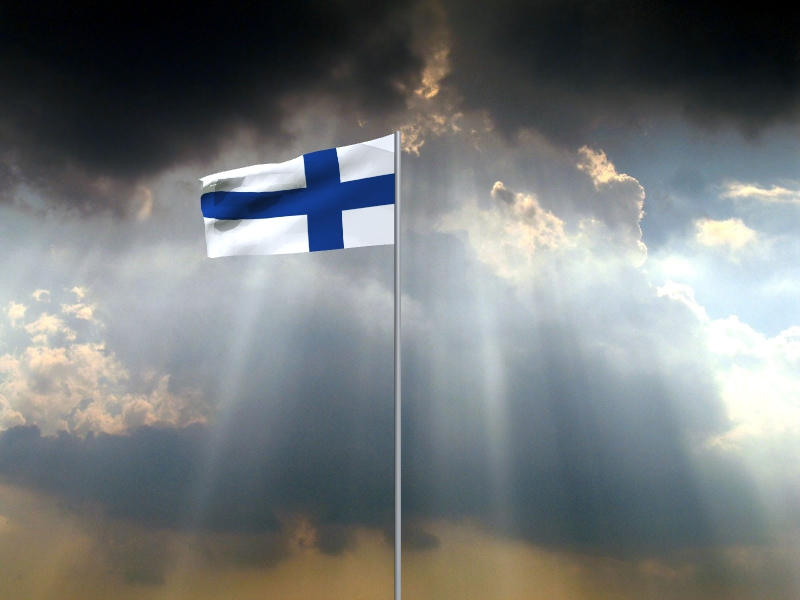fi: (198, 134, 395, 260)
